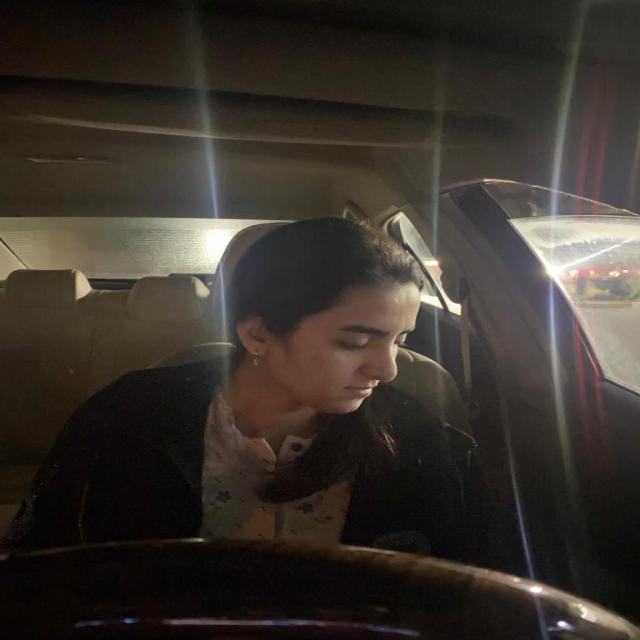LeftRight: (229, 226, 429, 427)
